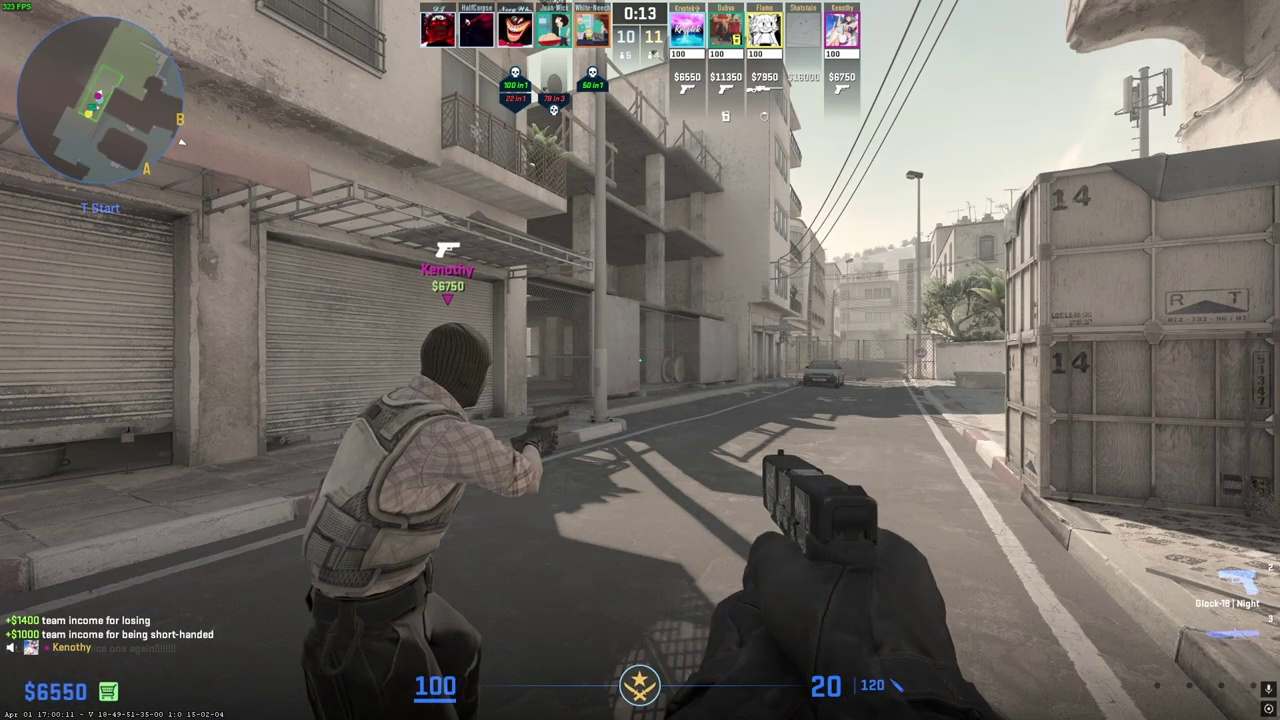Terrorist: (302, 323, 505, 718)
